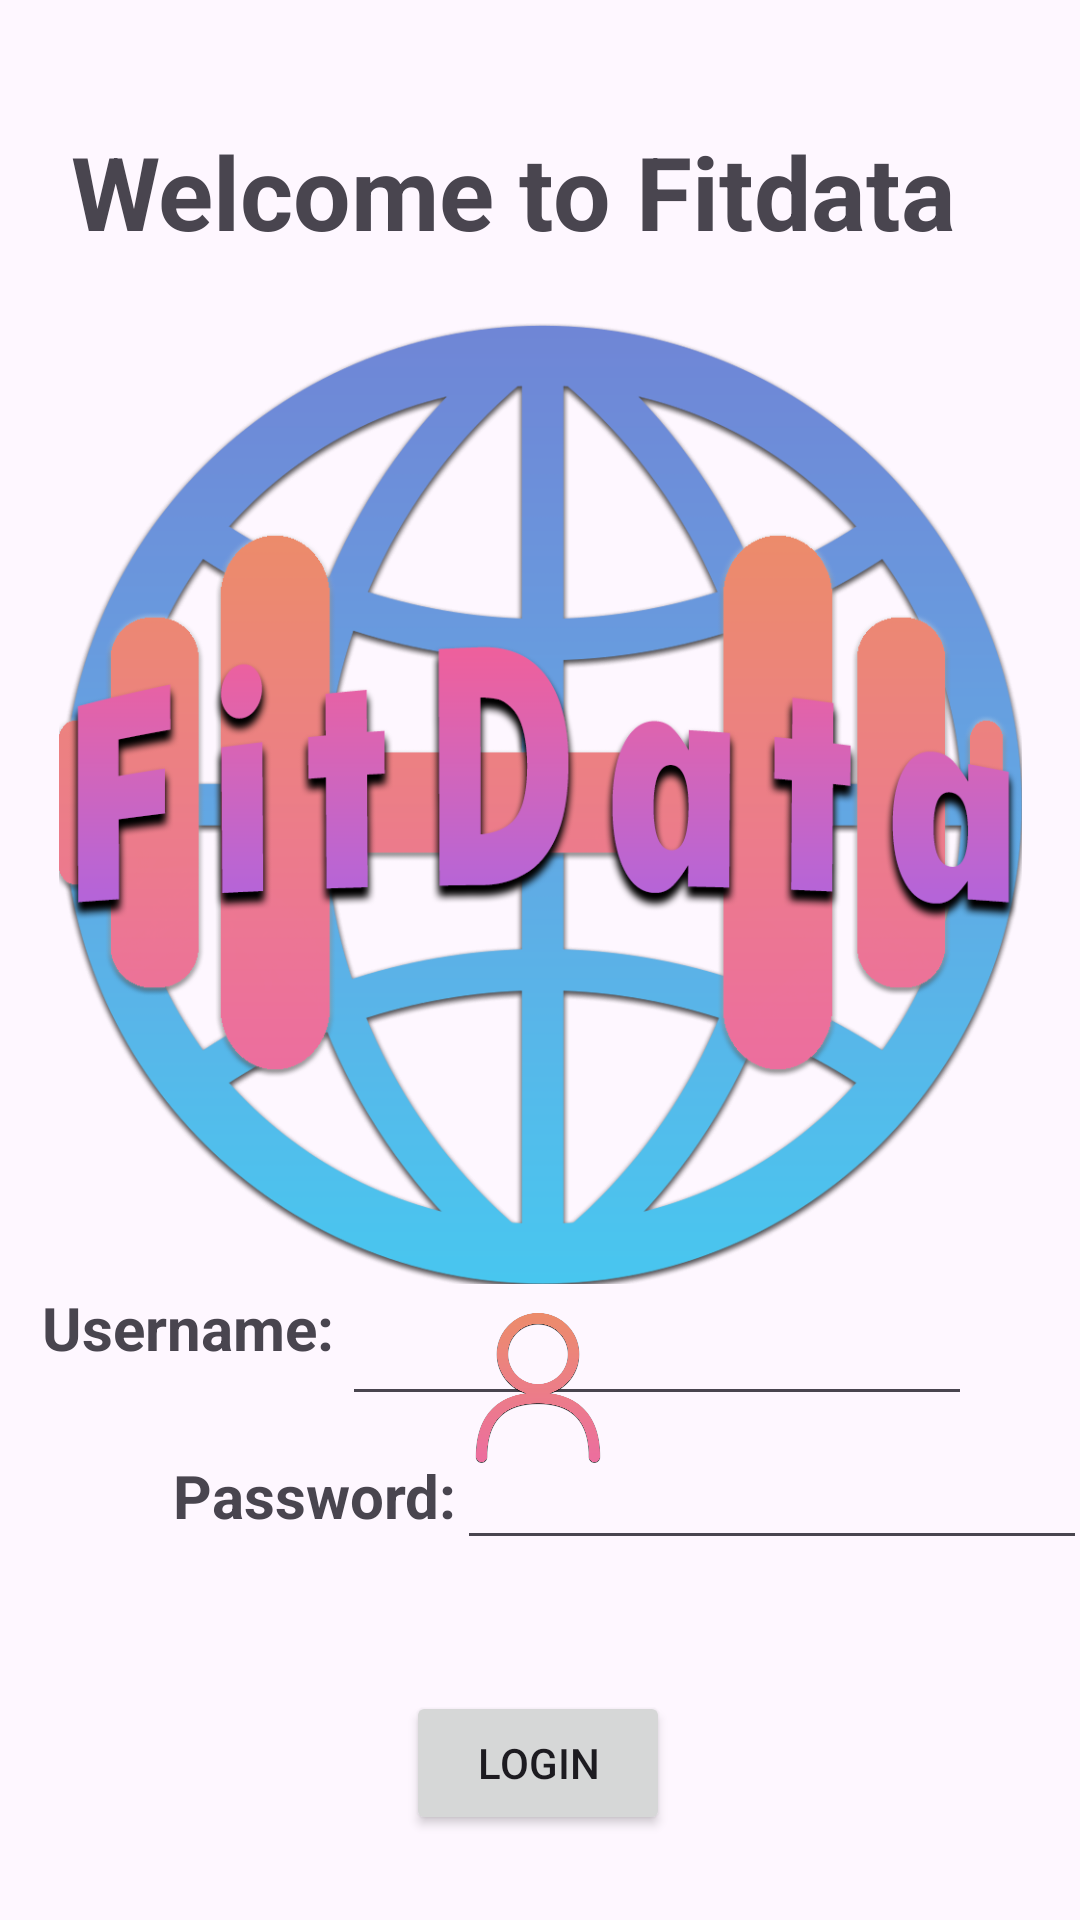

Screen size 1080*1920. Icon name, then its box in pixels as Rect(x1, y1, x2, y2):
user fit data: Rect(463, 1313, 613, 1463)
